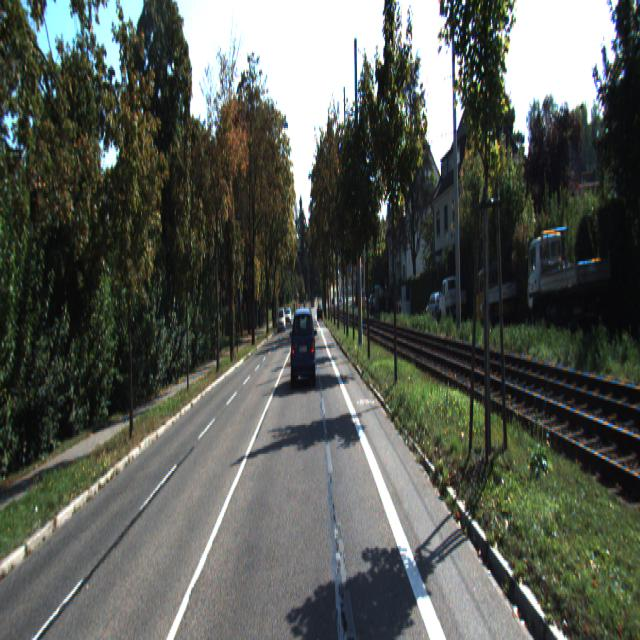Car: (527, 214, 613, 330), (473, 261, 518, 330), (290, 305, 316, 388), (438, 275, 466, 321), (427, 292, 447, 324)
